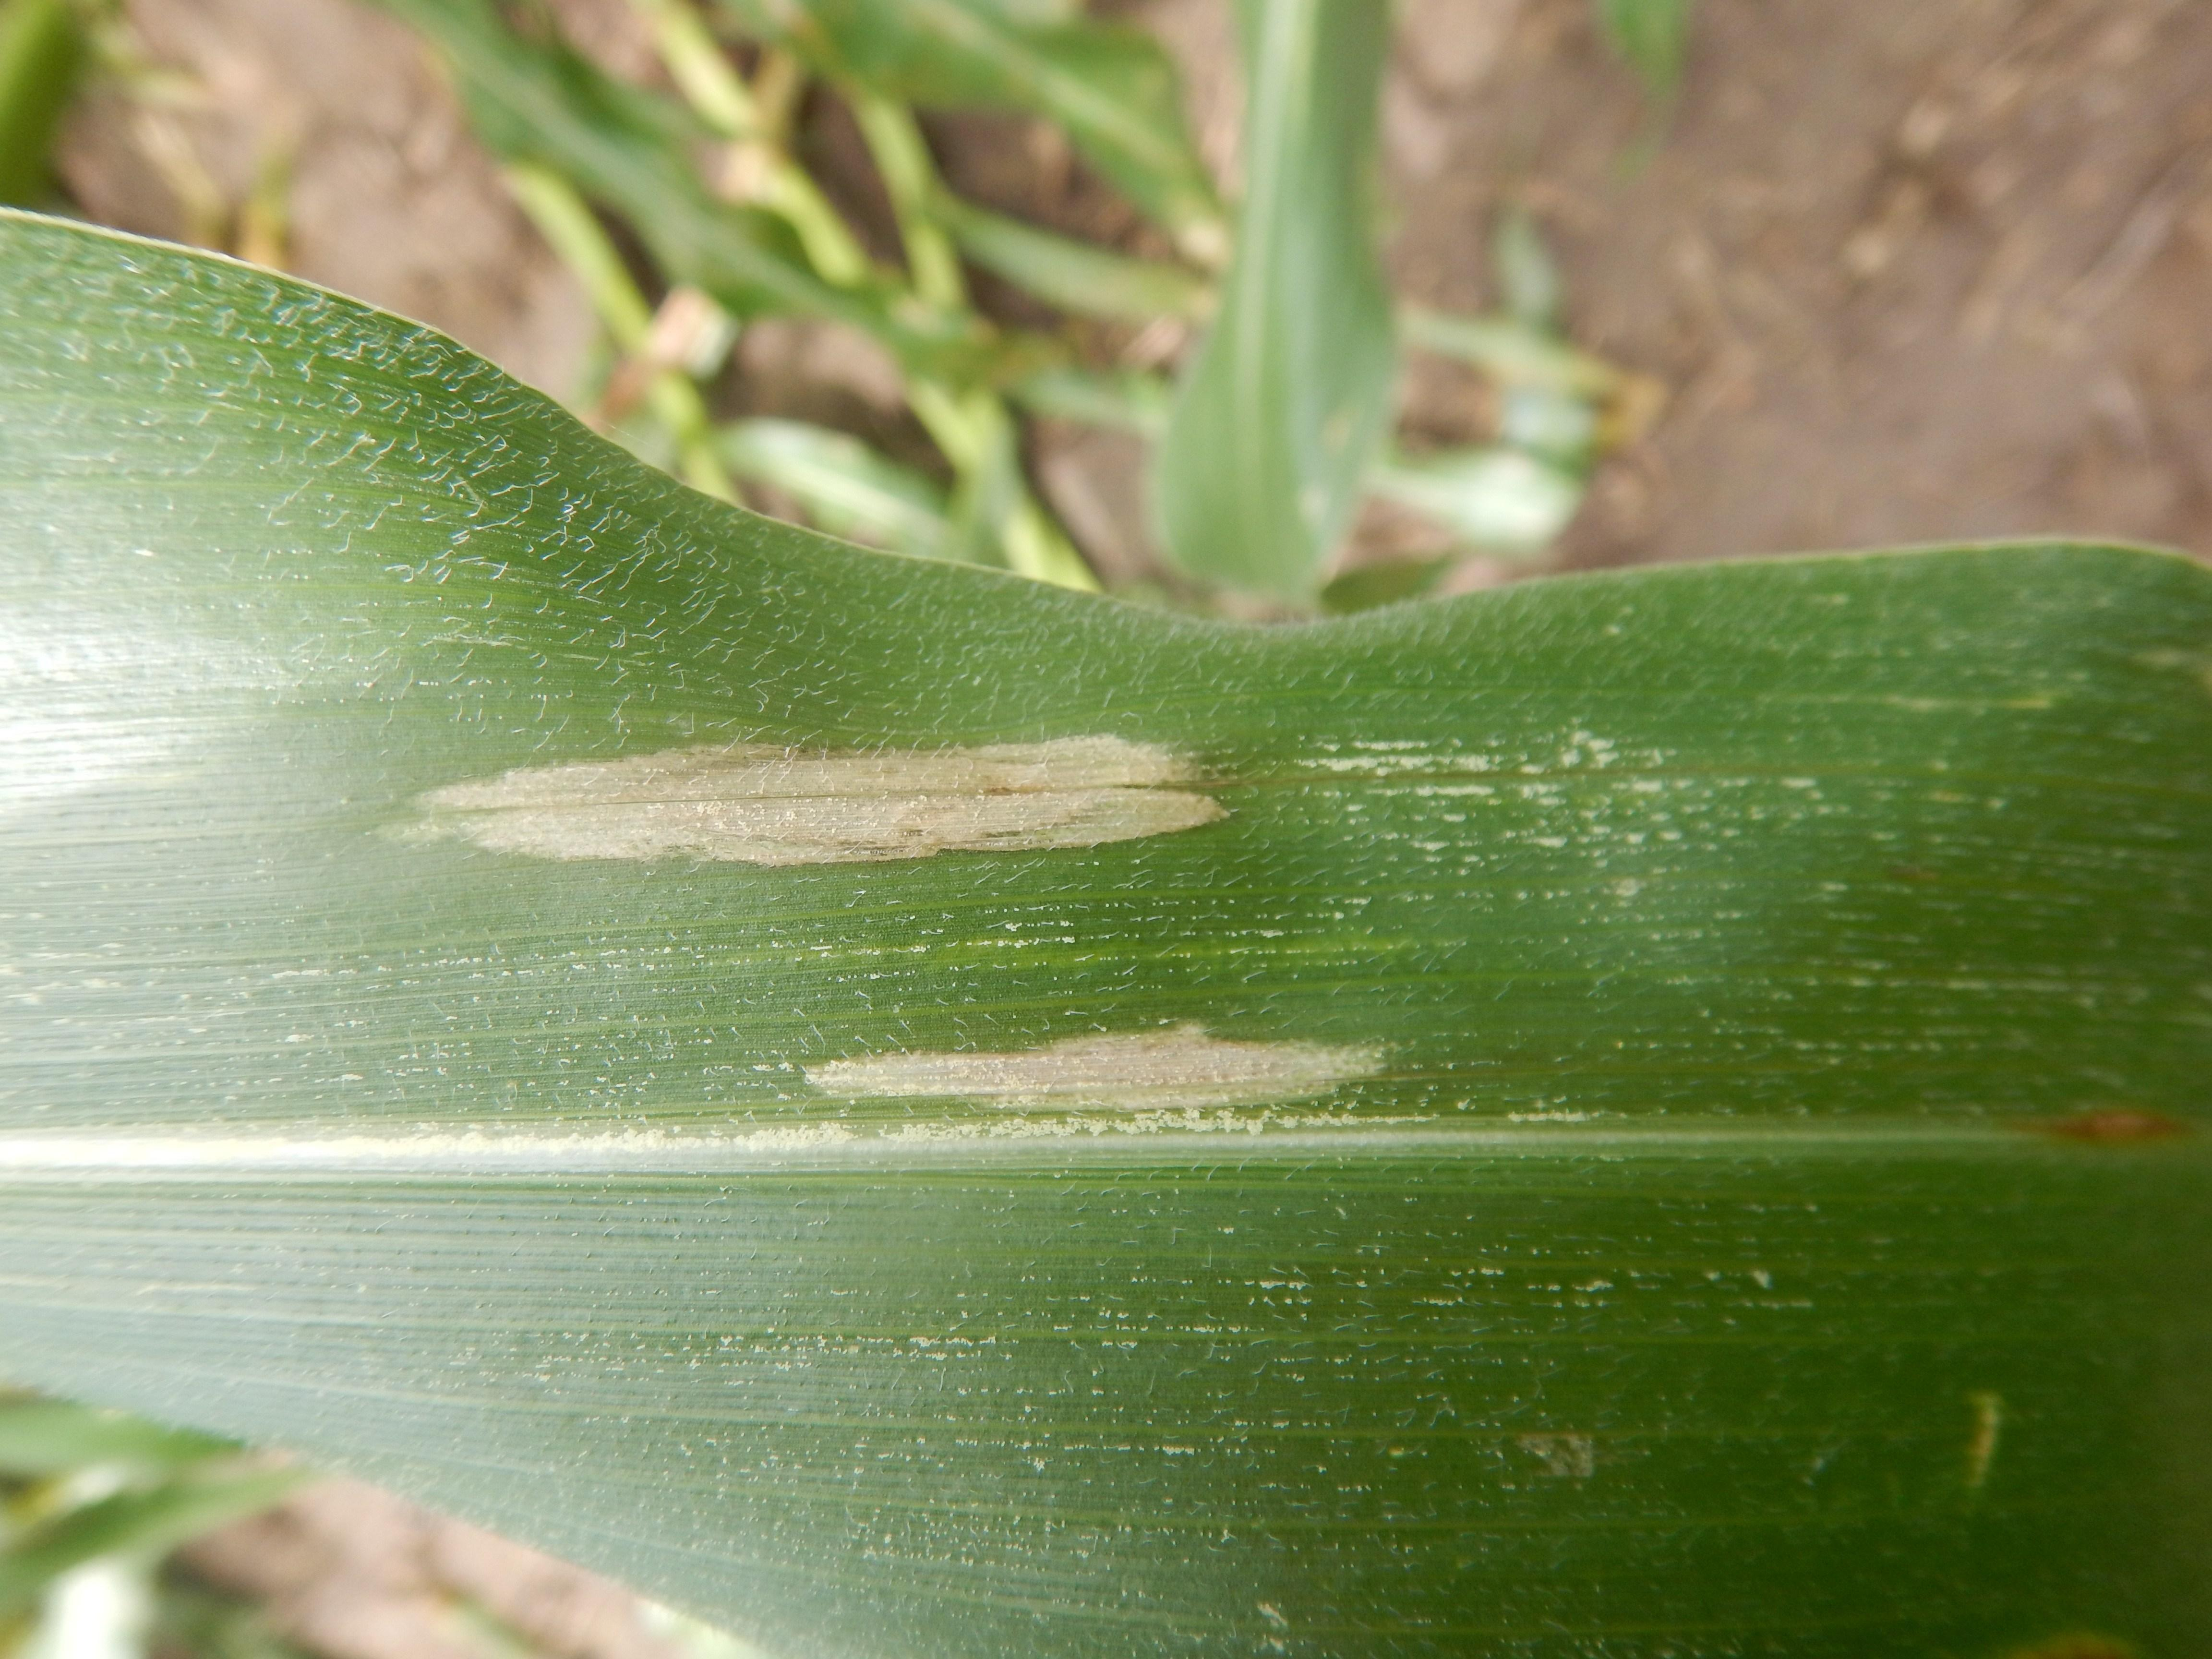Corn_Blight: (366, 645, 1338, 899), (779, 995, 1414, 1173)
